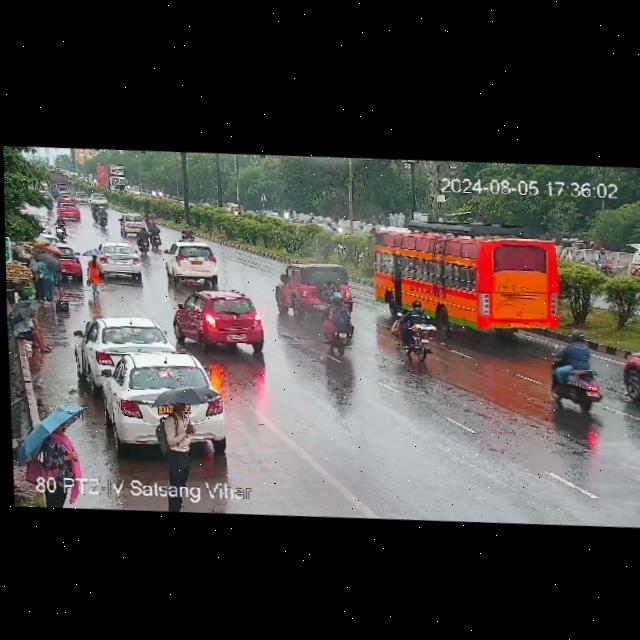bus: (367, 219, 572, 340)
car: (85, 327, 230, 461), (171, 285, 267, 349), (75, 313, 174, 370), (276, 256, 328, 320), (166, 241, 231, 287), (85, 244, 143, 283), (623, 339, 640, 412), (60, 244, 83, 281), (119, 212, 149, 236), (58, 202, 81, 219), (86, 193, 112, 207)
motorcycle: (549, 335, 601, 413), (319, 293, 358, 356), (393, 300, 434, 358), (597, 244, 616, 276), (174, 225, 199, 245), (137, 226, 152, 254), (91, 205, 108, 228), (53, 217, 68, 240), (150, 223, 161, 249), (144, 208, 155, 225), (332, 220, 343, 233)
person: (158, 396, 203, 479), (27, 419, 79, 483), (10, 302, 51, 353), (29, 248, 63, 304), (86, 254, 100, 291)
truck: (94, 160, 128, 190)
